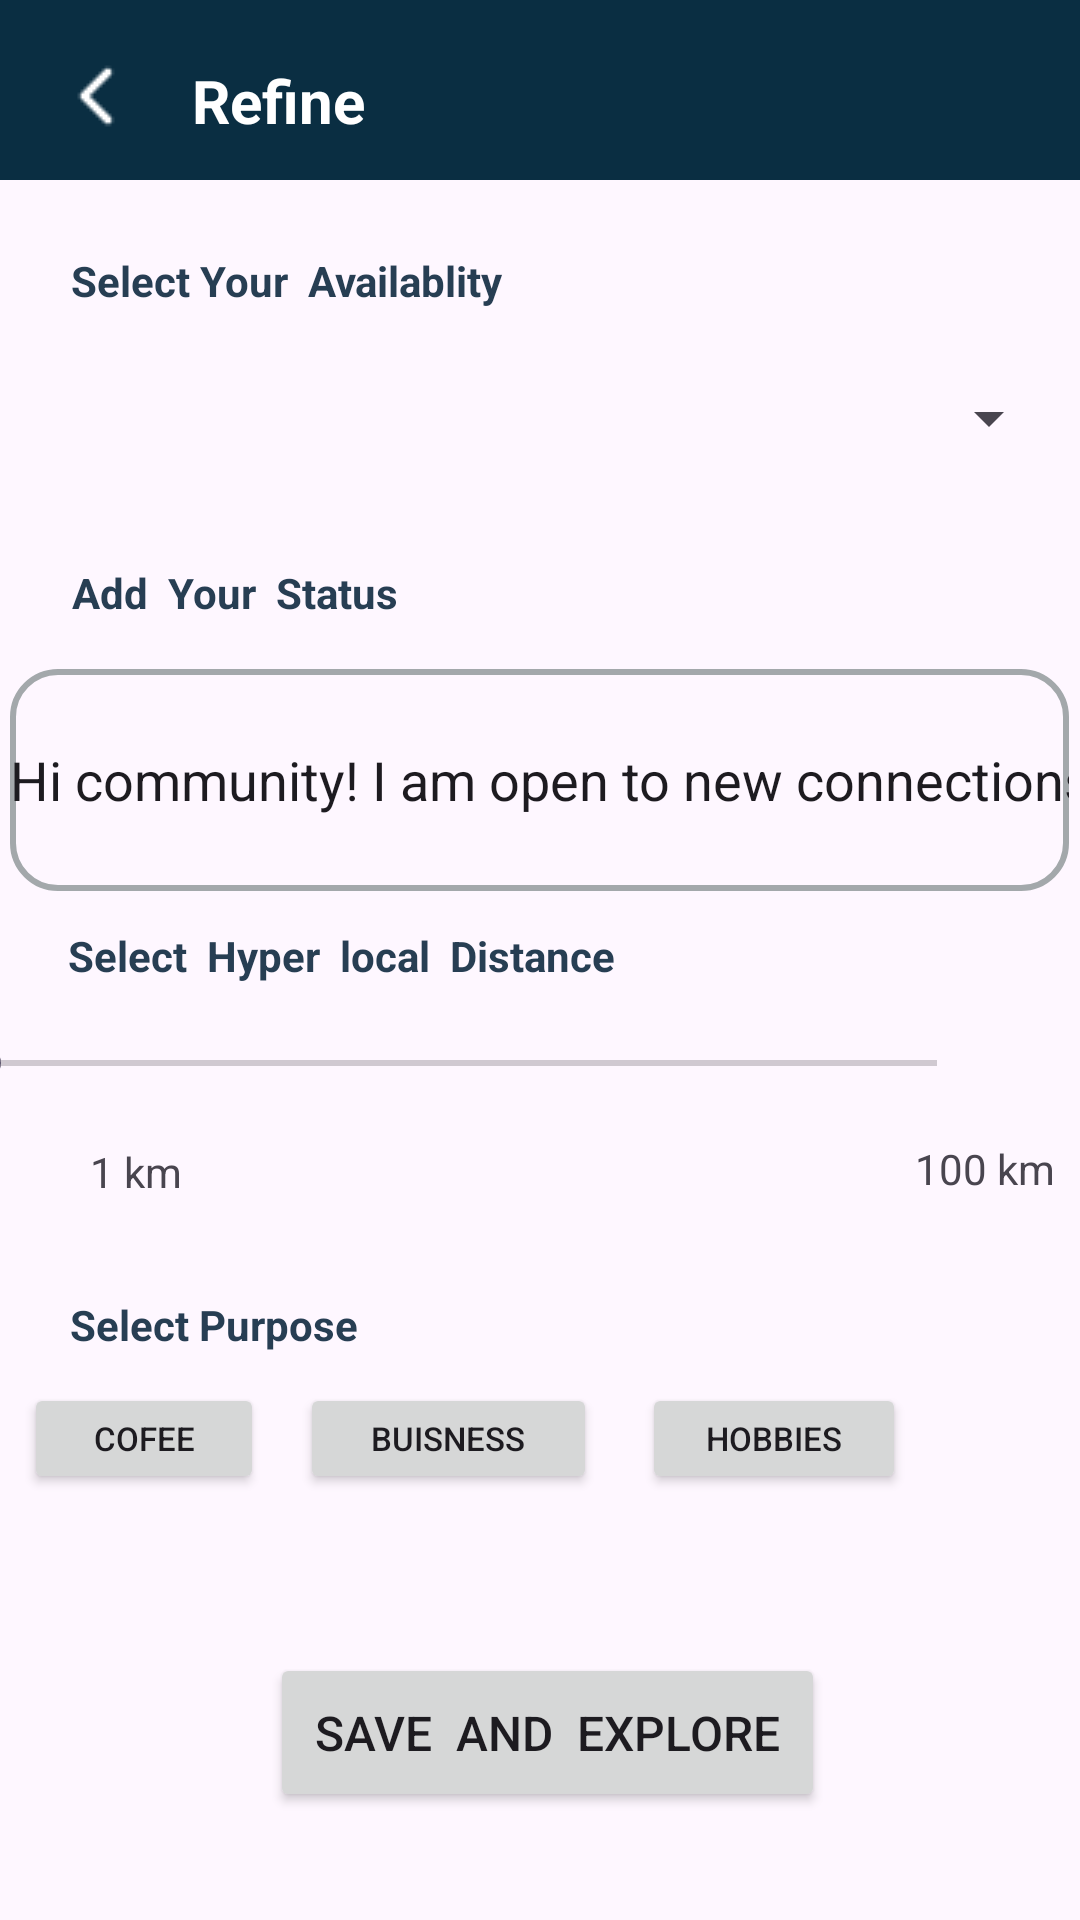

Locate icon controls on the screen. Image size 1080w x 1920h, boxes as bbox(x1, y1, x2, y2).
left: bbox(78, 67, 114, 126)
